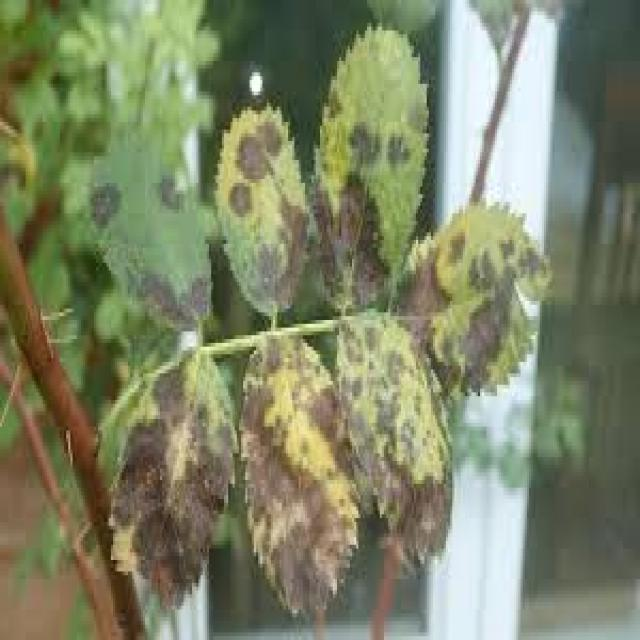black-spot: (233, 315, 432, 571), (69, 93, 296, 265), (73, 395, 215, 638)
